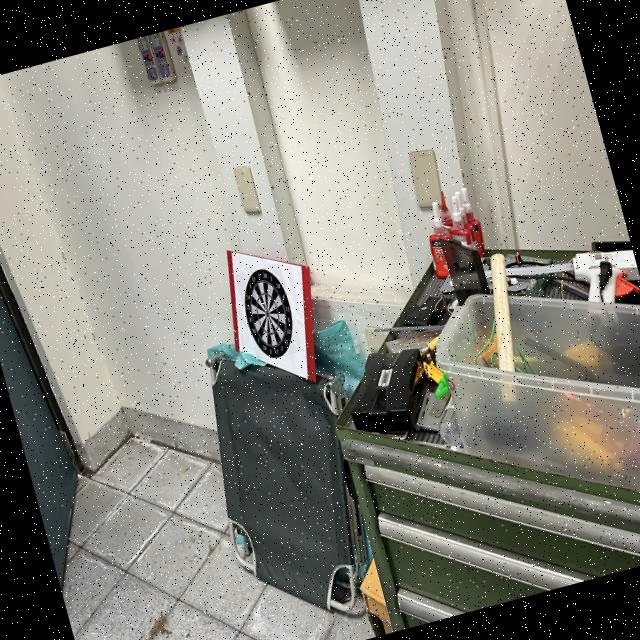archery-targets: (235, 262, 302, 362)
